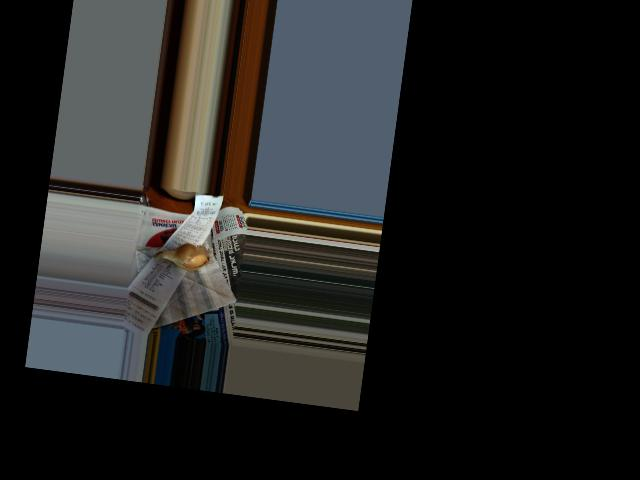onion: (157, 239, 211, 273)
